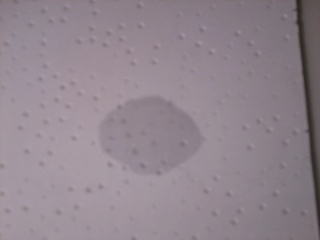Water_detected: (105, 100, 184, 160)
